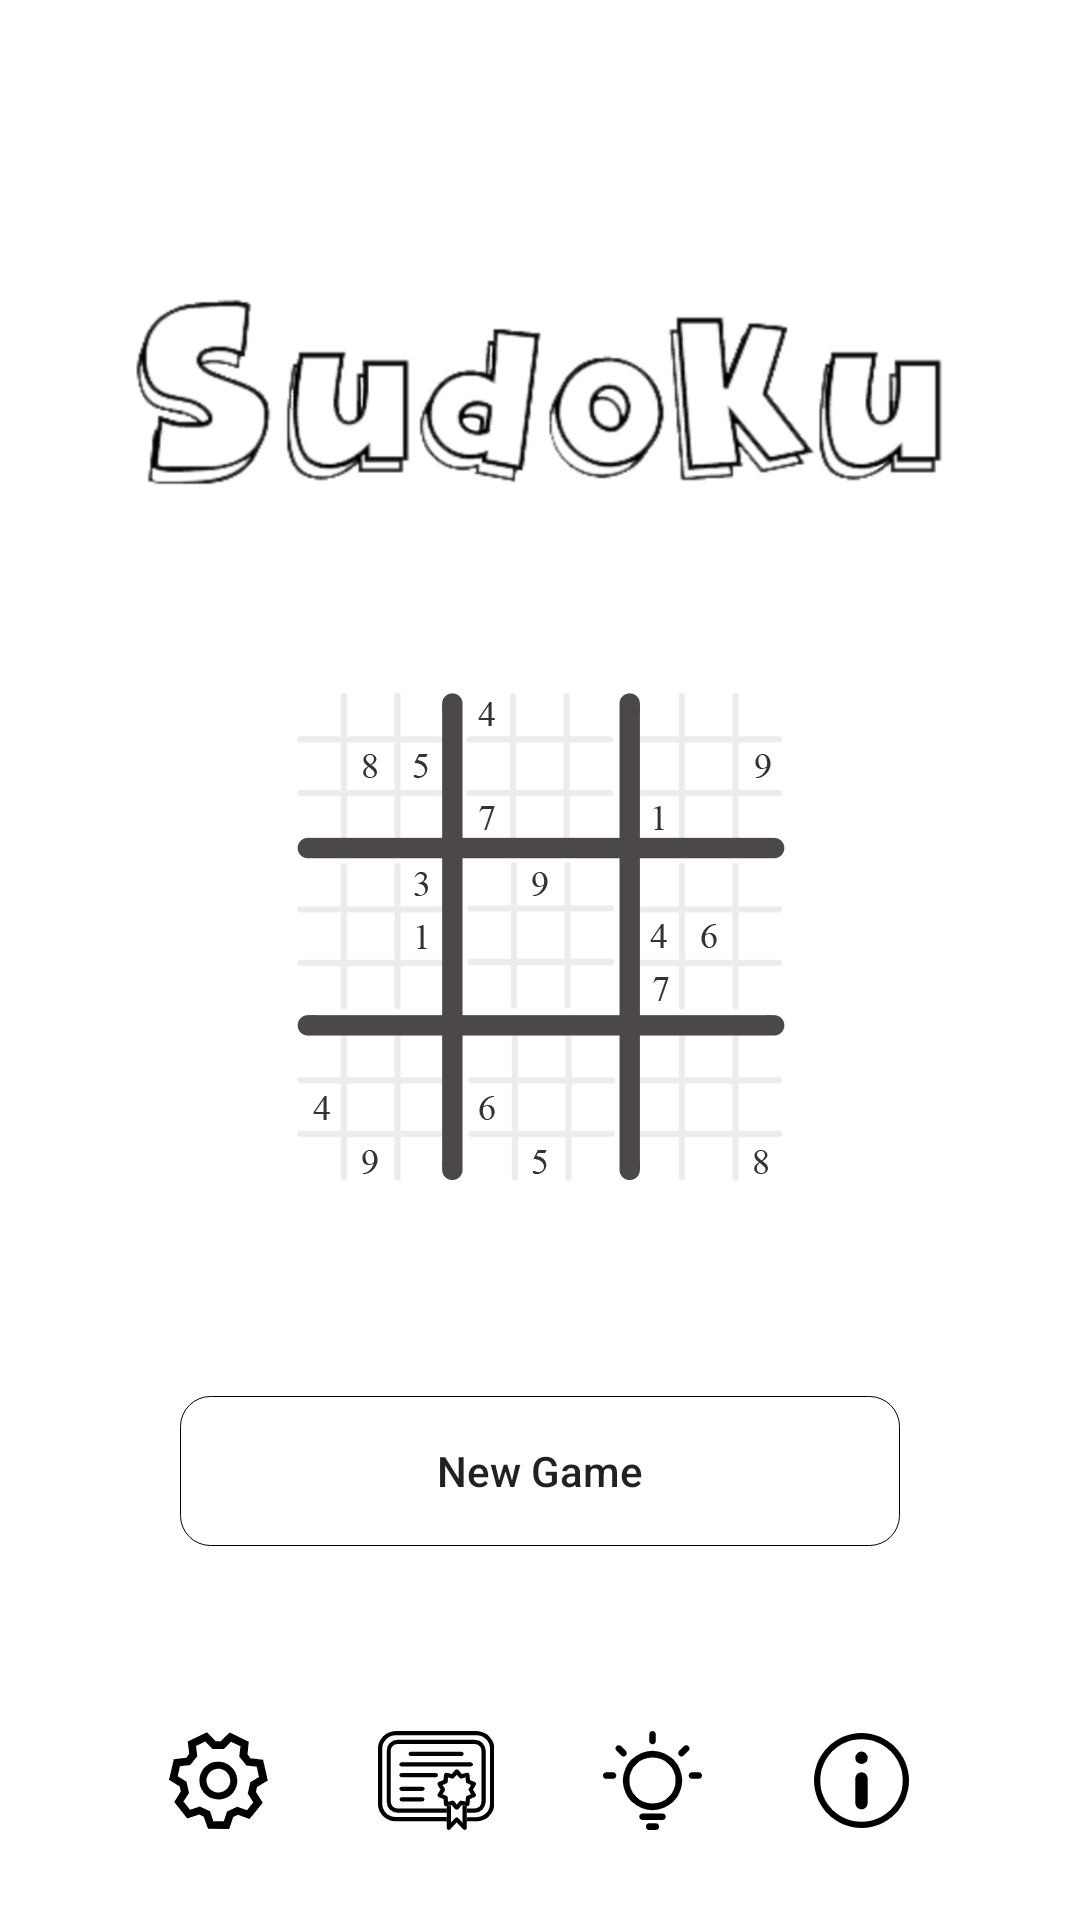

Icons on this 1080px x 1920px Android screen, each with the point to tap as (x,y):
about: (861,1780)
record: (436,1780)
setting: (218,1780)
